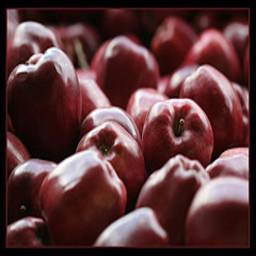apple: (8, 49, 81, 152), (40, 151, 127, 237), (182, 63, 243, 163), (140, 97, 213, 174), (78, 122, 144, 199), (93, 35, 159, 103)
